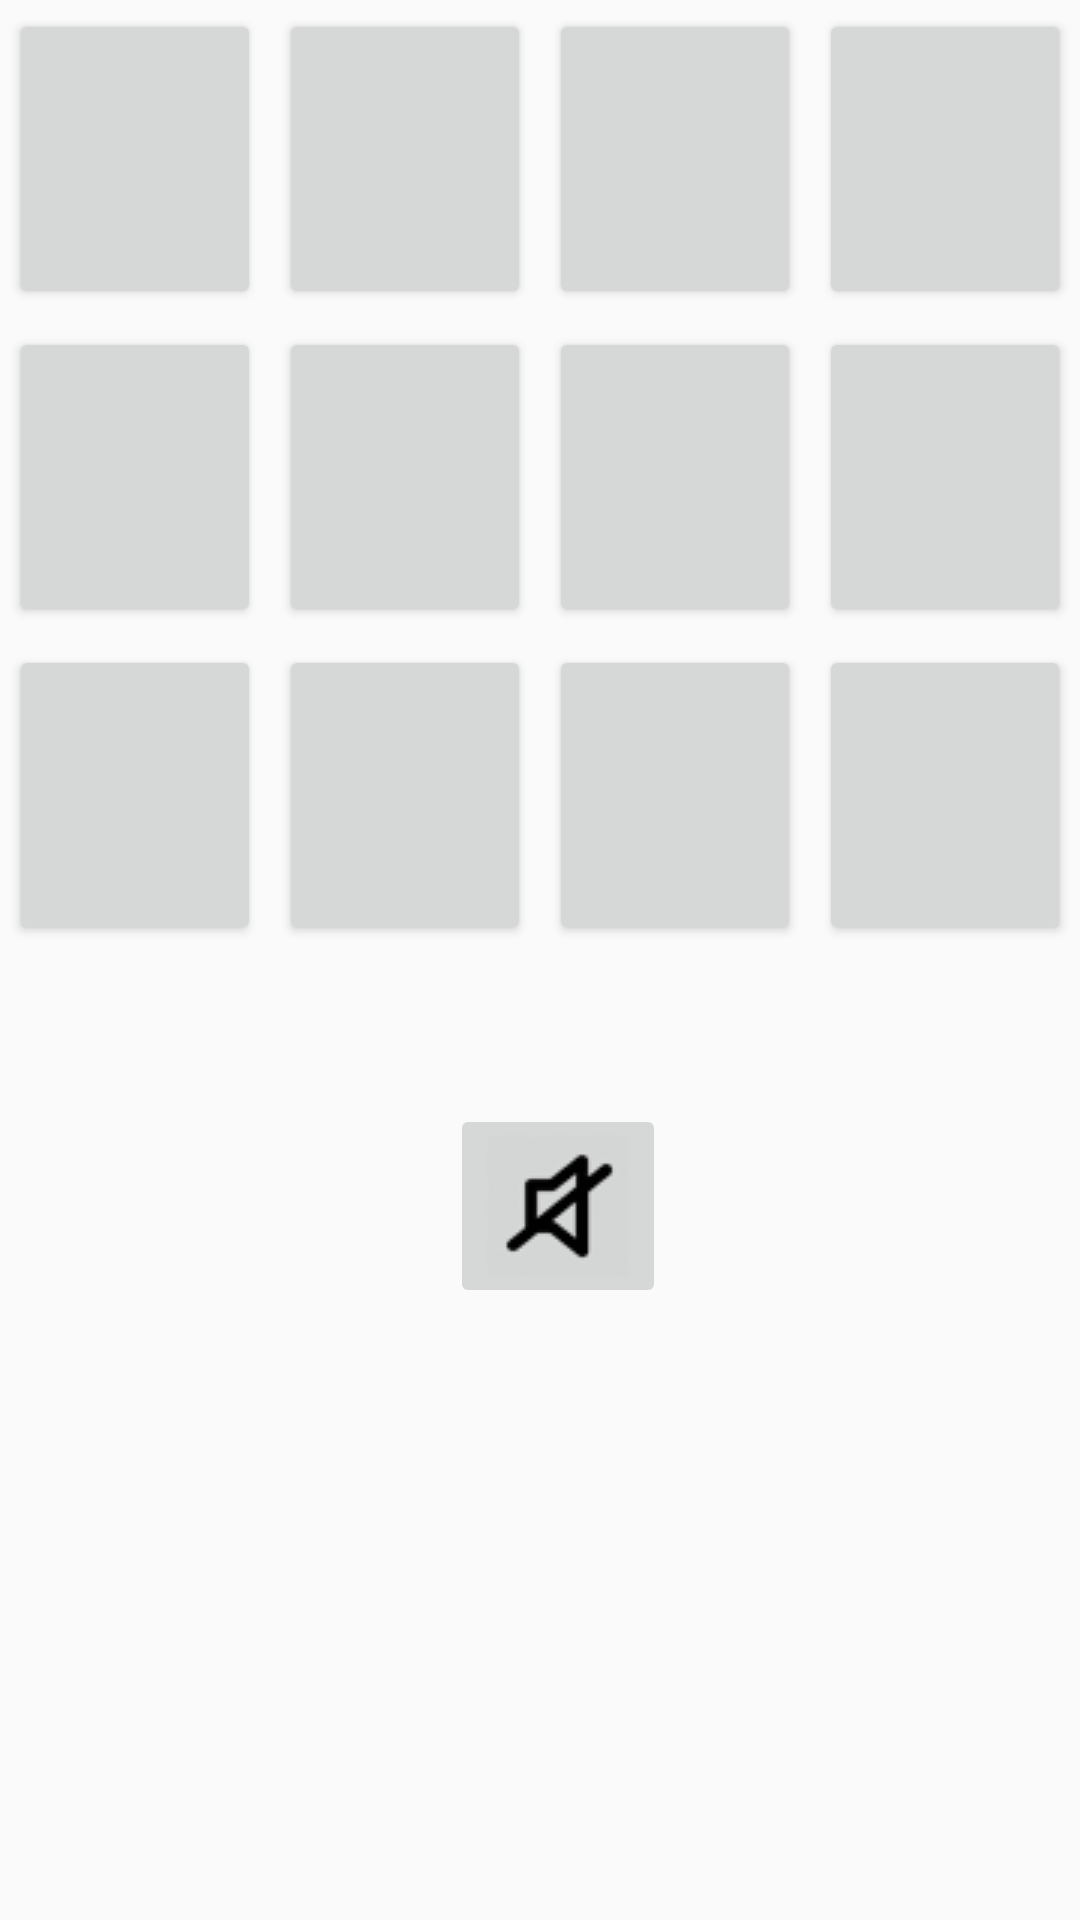

Where to tap for icons on this 1080×1920 app screen, as (x,y):
mute volume: (558,1206)
